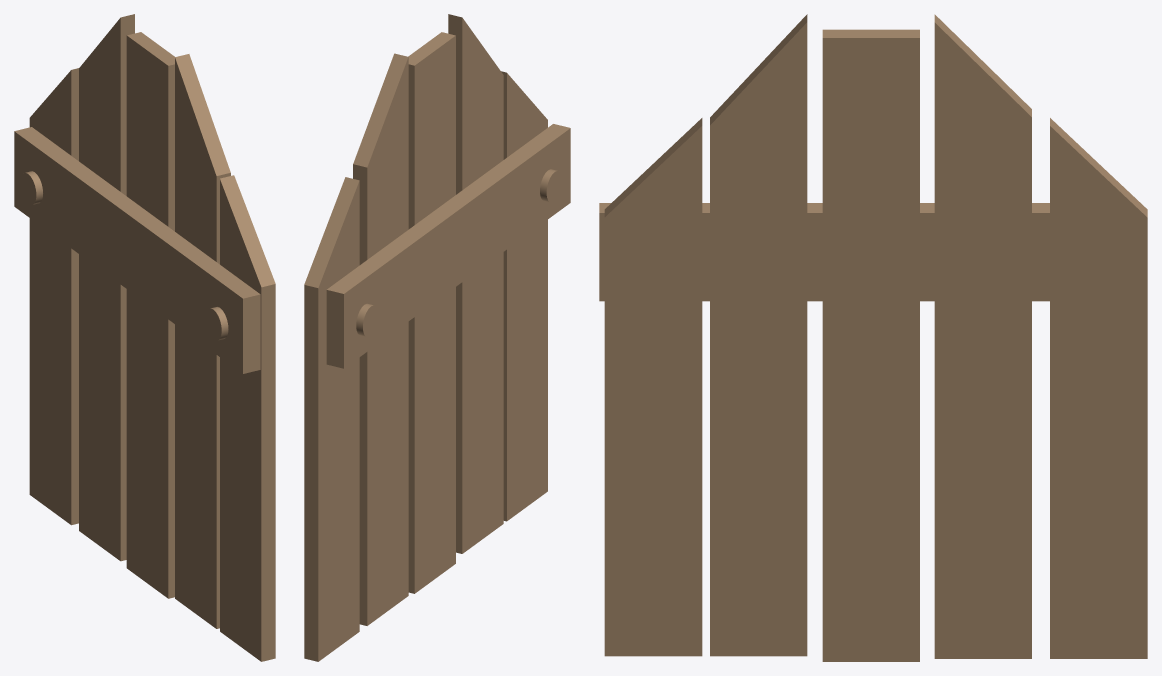
File: Door_All.fbx
The picture shows the model from 3 angles, left to right: view 1: azimuth 30°, elevation 25°; view 2: azimuth 150°, elevation 25°; view 3: azimuth 270°, elevation 25°; orthographic projection. The views are drawn at different scales.
Parts seen in each view (by area): view 1: pCube4, pCube6, pCube7, pCube3, pCube5, pCube2, pCylinder3, pCylinder1; view 2: pCube3, pCube4, pCube2, pCube6, pCube5, pCube7, pCylinder1, pCylinder3; view 3: pCube4, pCube3, pCube5, pCube7, pCube2, pCube6.
Boxes of the visible parts, box(x1,y1,x2,y2) form: pCube4: box(126, 32, 174, 598); pCube6: box(14, 127, 260, 373); pCube7: box(220, 175, 275, 661); pCube3: box(79, 14, 134, 561); pCube5: box(175, 54, 230, 628); pCube2: box(29, 68, 78, 525); pCylinder3: box(205, 307, 228, 340); pCylinder1: box(20, 171, 42, 204); pCube3: box(353, 53, 408, 625); pCube4: box(408, 32, 455, 593); pCube2: box(304, 177, 359, 661); pCube6: box(326, 124, 570, 368); pCube5: box(448, 14, 503, 553); pCube7: box(501, 71, 547, 521); pCylinder1: box(356, 303, 379, 337); pCylinder3: box(540, 169, 562, 202); pCube4: box(822, 29, 919, 661); pCube3: box(934, 14, 1031, 658); pCube5: box(710, 14, 807, 656); pCube7: box(604, 118, 702, 656); pCube2: box(1050, 118, 1147, 658); pCube6: box(599, 203, 1049, 301).
Bounding box in the file's own units: 0.5785 × 7.25 × 5.62.
